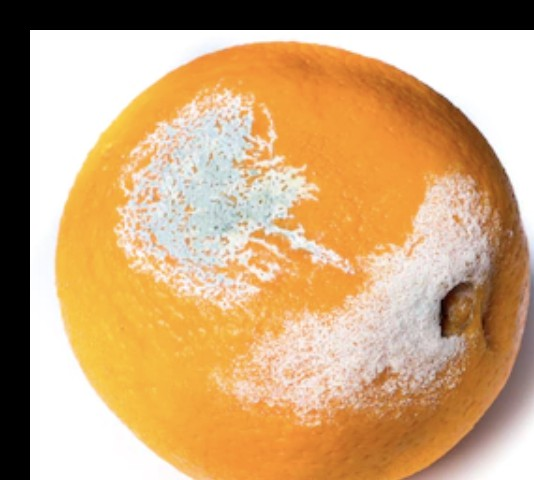rotten_orange: (54, 41, 531, 480)
